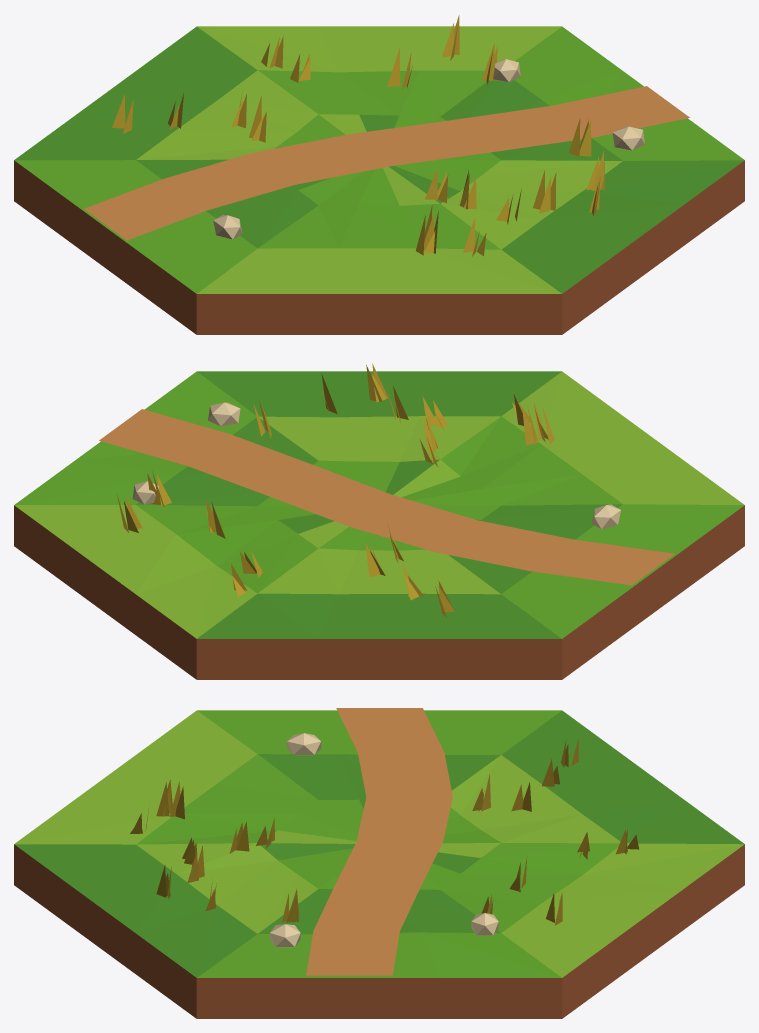
Rendered from SM_Llanura_C_LOD0.fbx.
The picture shows the model from 3 angles, top to bottom: view 1: azimuth 30°, elevation 25°; view 2: azimuth 150°, elevation 25°; view 3: azimuth 270°, elevation 25°; orthographic projection.
Visible parts, largest first — view 1: SM_Llanura_C_LOD0; view 2: SM_Llanura_C_LOD0; view 3: SM_Llanura_C_LOD0.
Boxes of the visible parts, bbox=[...] form: SM_Llanura_C_LOD0: bbox=[14, 15, 744, 334]; SM_Llanura_C_LOD0: bbox=[14, 363, 744, 679]; SM_Llanura_C_LOD0: bbox=[14, 708, 744, 1018].
Size of the model in its own units: 1.68 by 0.2386 by 1.94.
